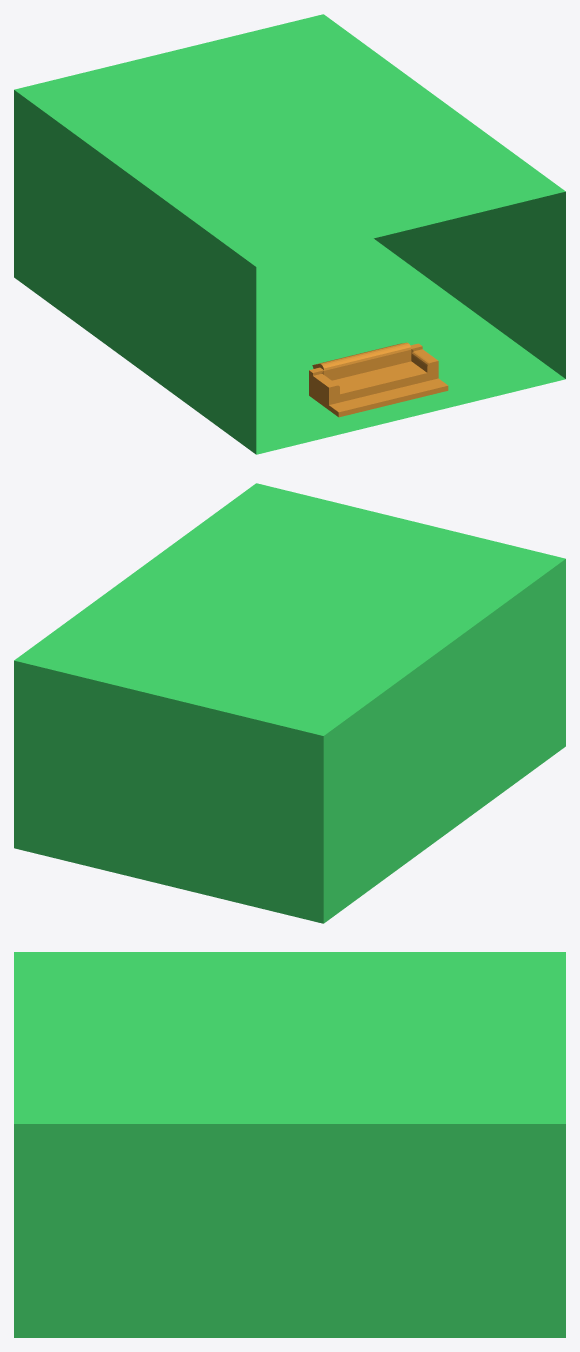
File: Goal.glb
The picture shows the model from 3 angles, top to bottom: view 1: azimuth 30°, elevation 25°; view 2: azimuth 150°, elevation 25°; view 3: azimuth 270°, elevation 25°; orthographic projection. The views are drawn at different scales.
Visible parts, largest first — view 1: EscenarioTotal; view 2: EscenarioTotal; view 3: EscenarioTotal.
Boxes of the visible parts, <box> form: EscenarioTotal: <box>14,14,565,454</box>; EscenarioTotal: <box>14,483,565,923</box>; EscenarioTotal: <box>14,952,565,1337</box>.
Size of the model in its own units: 2 by 1.16 by 2.71.
